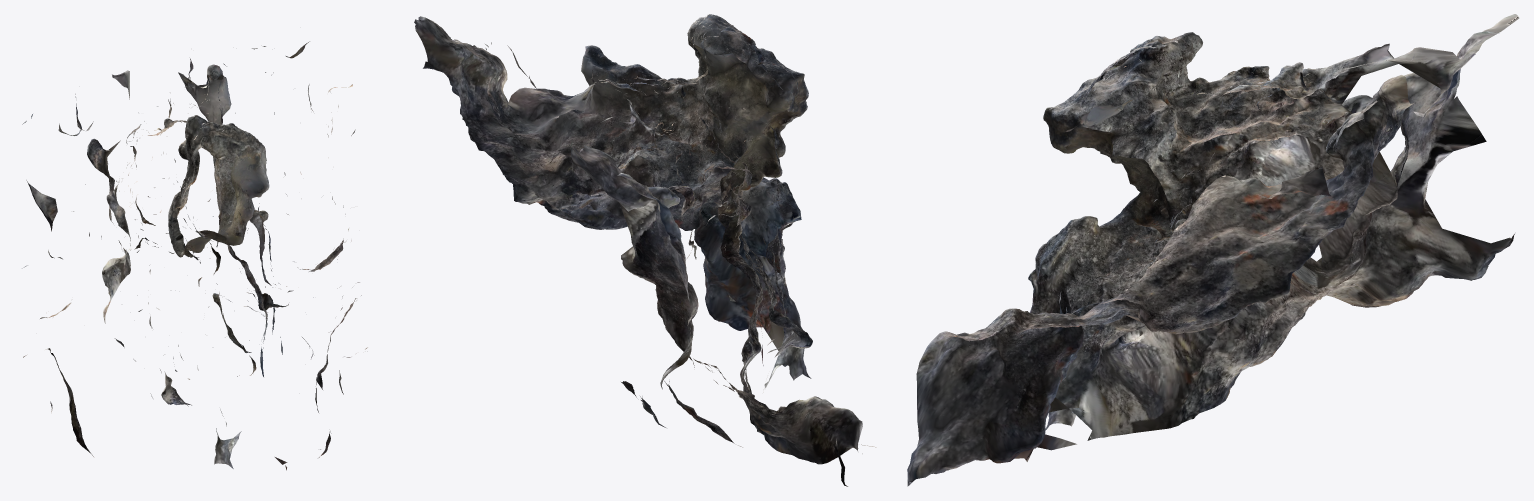
3 views of the same model, side by side, from view 1: azimuth 30°, elevation 25°; view 2: azimuth 150°, elevation 25°; view 3: azimuth 270°, elevation 25° (orthographic). The views are drawn at different scales.
Bounding box in the file's own units: 0.475 × 0.436 × 0.5573.
1 material, 1 textured.
